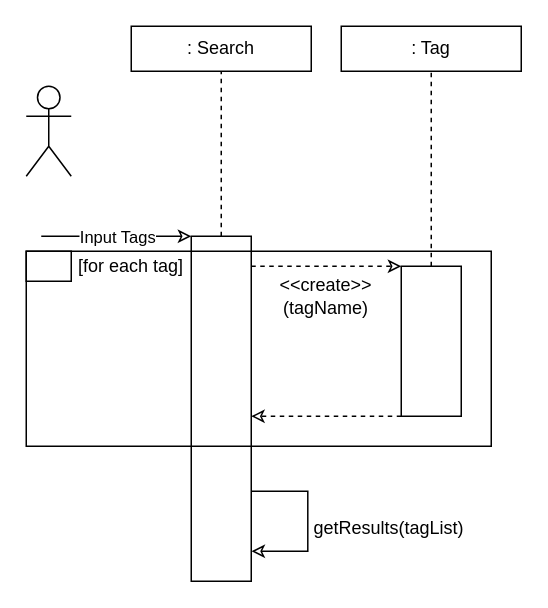
Some shapes in this 548 by 608 pixel diagram are drawn without their labels. The shapes that lost their labels are listed below. From the top down, each one's centre as x and y in pixels, then its label:
At (48,130): "User".
At (48,265): "loop".
